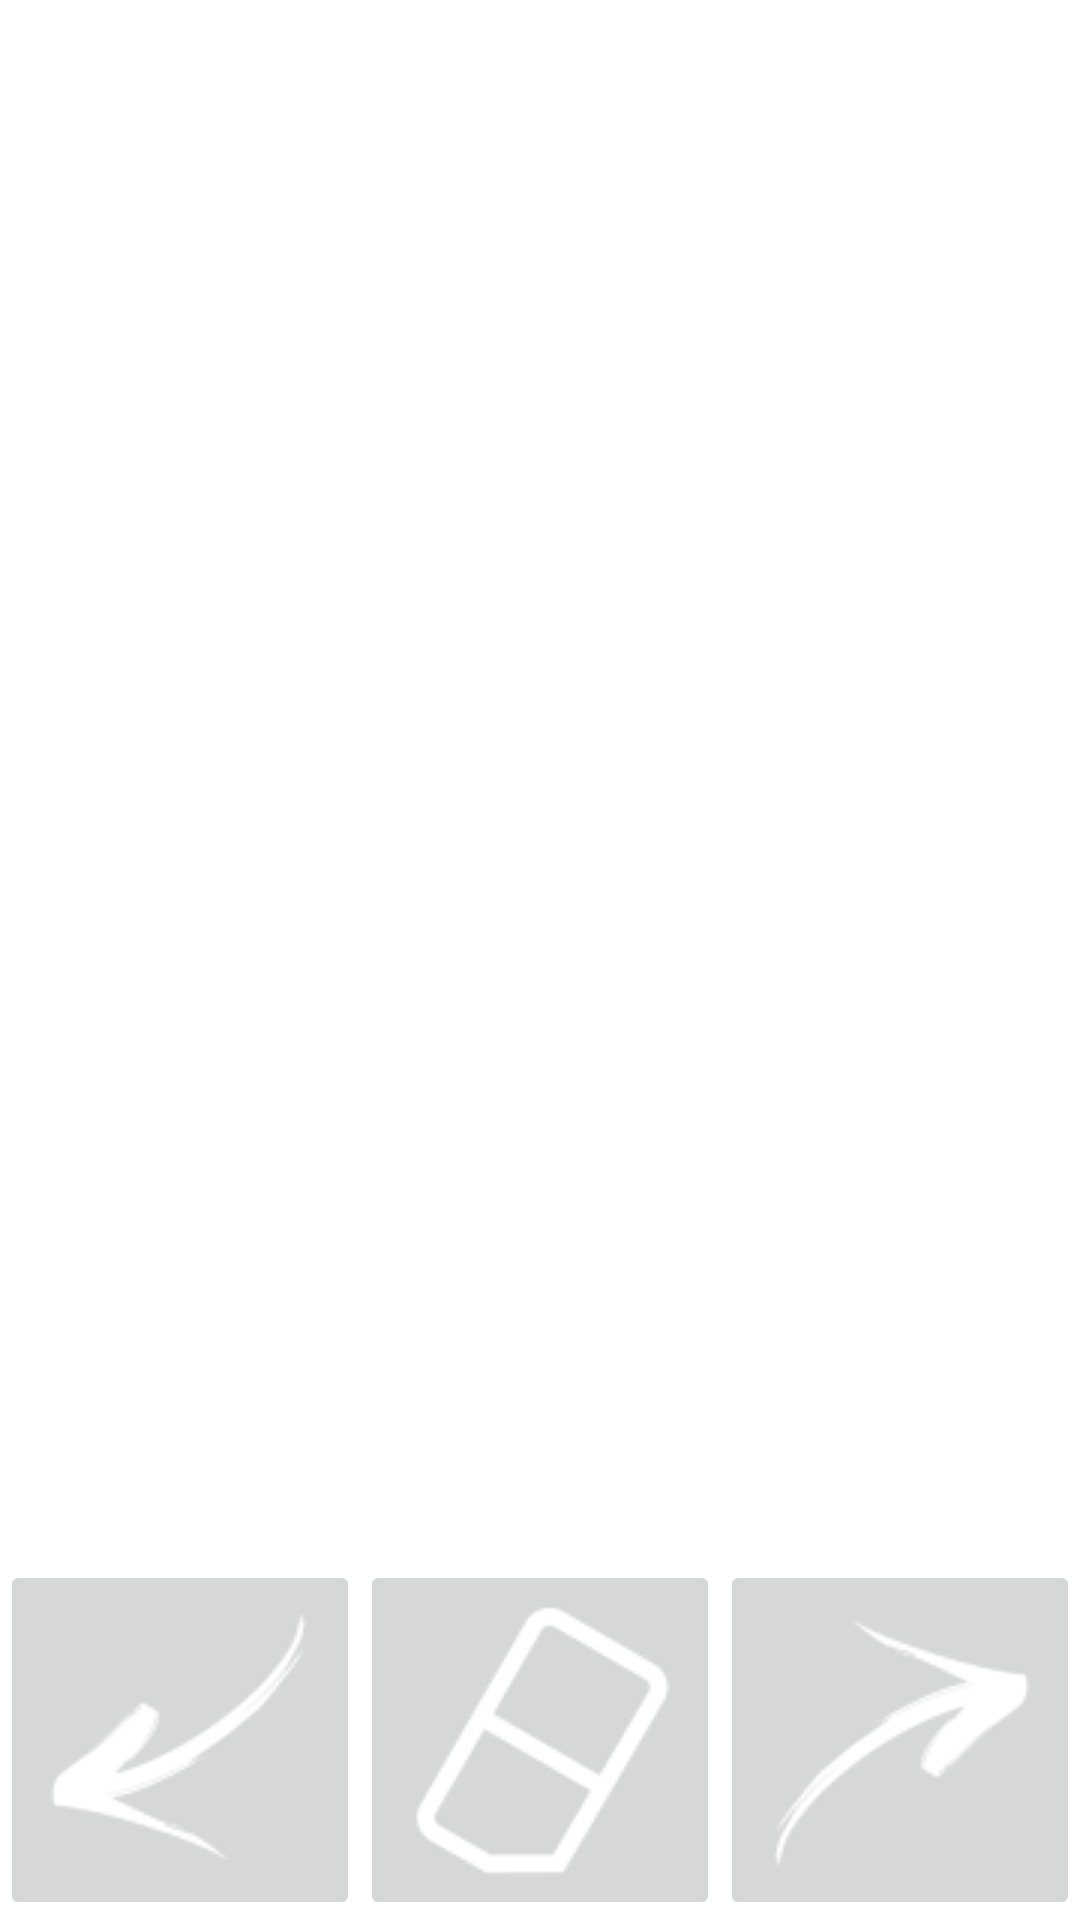

Named icons in this screenshot (1080px×1920px) and their bounding boxes, (x1, y1, x2, y2):
erase: (372, 1578, 708, 1902)
next arr: (732, 1578, 1068, 1902)
prev arr: (12, 1578, 348, 1902)
